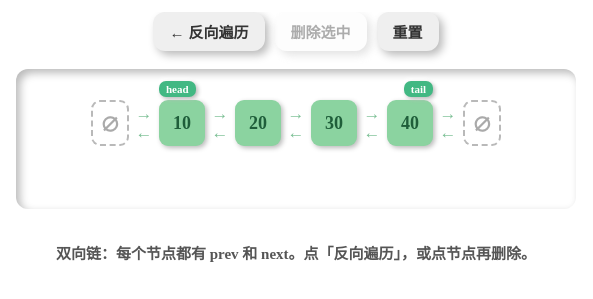
Test case: DlinkViz 双向链表互动 › TC-VIZ-DLINKVIZ-06 删头（选0）删除：首 dnode 变 20、dnode→3
Click the button "10" at (182, 123), box [159,100,205,146]
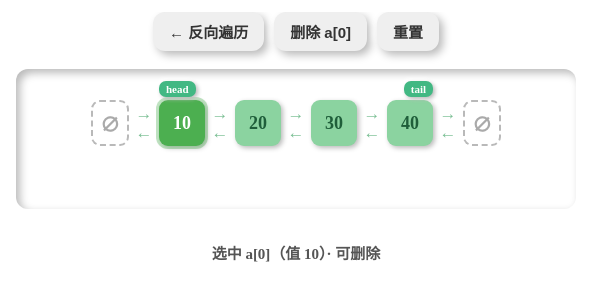
Click the button "删除 a[0]" at (321, 32), box [274,12,367,51]
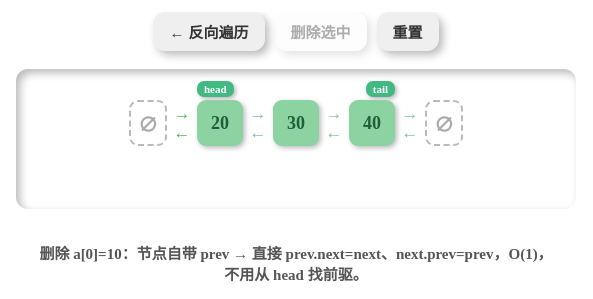
Expected: the button "20" is shown, [197,100,243,146]
Expected: the number of elements with class "dnode" is 3, [197,100,273,146]; [273,100,349,146]; [349,100,425,146]
